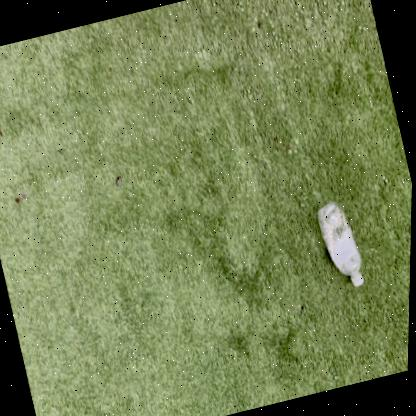Plastic: (319, 201, 365, 285)
